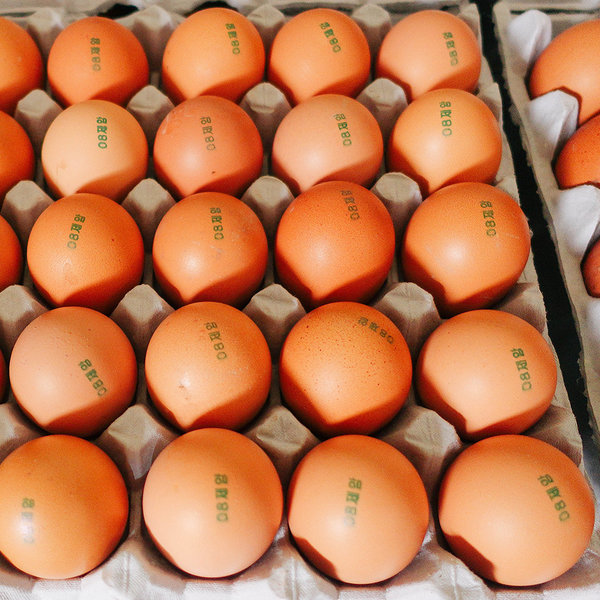egg: (1, 12, 594, 582)
